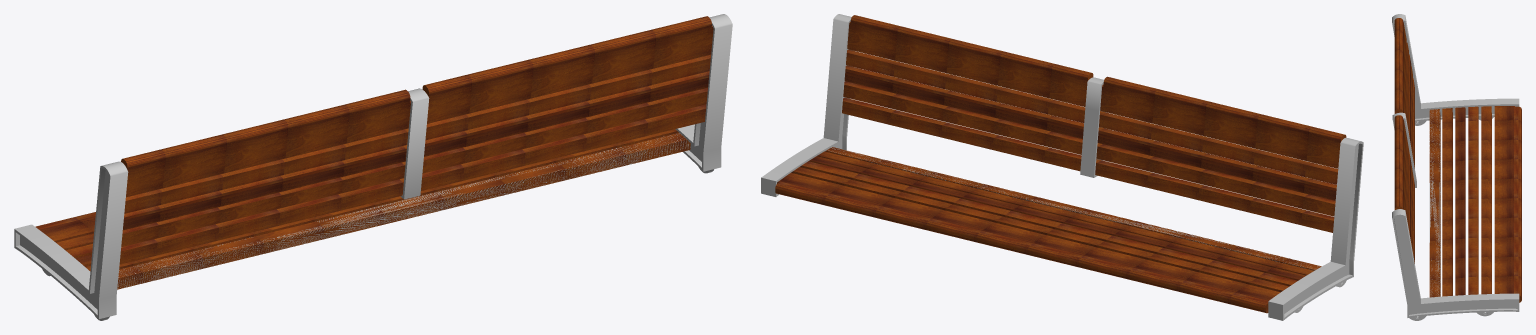
3 views of the same model, side by side, from view 1: azimuth 30°, elevation 25°; view 2: azimuth 150°, elevation 25°; view 3: azimuth 270°, elevation 25° (orthographic). The views are drawn at different scales.
Visible parts, largest first — view 1: mesh9_mesh9-geometry, mesh14_mesh14-geometry, mesh8_mesh8-geometry, mesh5_mesh5-geometry, mesh10_mesh10-geometry, mesh7_mesh7-geometry, mesh35_mesh35-geometry, mesh15_mesh15-geometry, mesh3_mesh3-geometry, mesh11_mesh11-geometry, mesh2_mesh2-geometry; view 2: mesh9_mesh9-geometry, mesh2_mesh2-geometry, mesh8_mesh8-geometry, mesh10_mesh10-geometry, mesh7_mesh7-geometry, mesh5_mesh5-geometry, mesh35_mesh35-geometry, mesh6_mesh6-geometry, mesh4_mesh4-geometry, mesh1_mesh1-geometry, mesh15_mesh15-geometry, mesh3_mesh3-geometry (+2 smaller); view 3: mesh2_mesh2-geometry, mesh15_mesh15-geometry, mesh9_mesh9-geometry, mesh14_mesh14-geometry, mesh1_mesh1-geometry, mesh3_mesh3-geometry, mesh6_mesh6-geometry, mesh4_mesh4-geometry, mesh35_mesh35-geometry, mesh10_mesh10-geometry, mesh7_mesh7-geometry, mesh5_mesh5-geometry (+2 smaller).
Part boxes in pixels (x1,y1,x2,y2): mesh9_mesh9-geometry: (121,16,713,197); mesh14_mesh14-geometry: (117,133,690,289); mesh8_mesh8-geometry: (119,104,706,264); mesh5_mesh5-geometry: (121,88,707,246); mesh10_mesh10-geometry: (122,71,709,230); mesh7_mesh7-geometry: (124,54,710,213); mesh35_mesh35-geometry: (14,161,128,318); mesh15_mesh15-geometry: (675,14,732,171); mesh3_mesh3-geometry: (85,129,678,271); mesh11_mesh11-geometry: (400,88,429,199); mesh2_mesh2-geometry: (35,212,95,242); mesh9_mesh9-geometry: (847,15,1346,168); mesh2_mesh2-geometry: (775,173,1280,313); mesh8_mesh8-geometry: (842,97,1334,232); mesh10_mesh10-geometry: (844,65,1336,200); mesh7_mesh7-geometry: (846,49,1338,184); mesh5_mesh5-geometry: (843,81,1335,216); mesh35_mesh35-geometry: (1268,137,1363,320); mesh6_mesh6-geometry: (791,167,1288,292); mesh4_mesh4-geometry: (800,161,1297,286); mesh1_mesh1-geometry: (808,156,1305,280); mesh15_mesh15-geometry: (761,14,852,196); mesh3_mesh3-geometry: (817,151,1313,275); mesh2_mesh2-geometry: (1494,106,1521,302); mesh15_mesh15-geometry: (1392,209,1519,317); mesh9_mesh9-geometry: (1394,18,1406,215); mesh14_mesh14-geometry: (1429,109,1440,297); mesh1_mesh1-geometry: (1455,107,1465,295); mesh3_mesh3-geometry: (1442,108,1452,296); mesh6_mesh6-geometry: (1481,106,1491,294); mesh4_mesh4-geometry: (1468,106,1478,294); mesh35_mesh35-geometry: (1392,14,1519,121); mesh10_mesh10-geometry: (1409,54,1411,242); mesh7_mesh7-geometry: (1406,42,1408,229); mesh5_mesh5-geometry: (1411,66,1412,251).
Bounding box in the file's own units: 0.9363 × 0.2405 × 0.2558.
